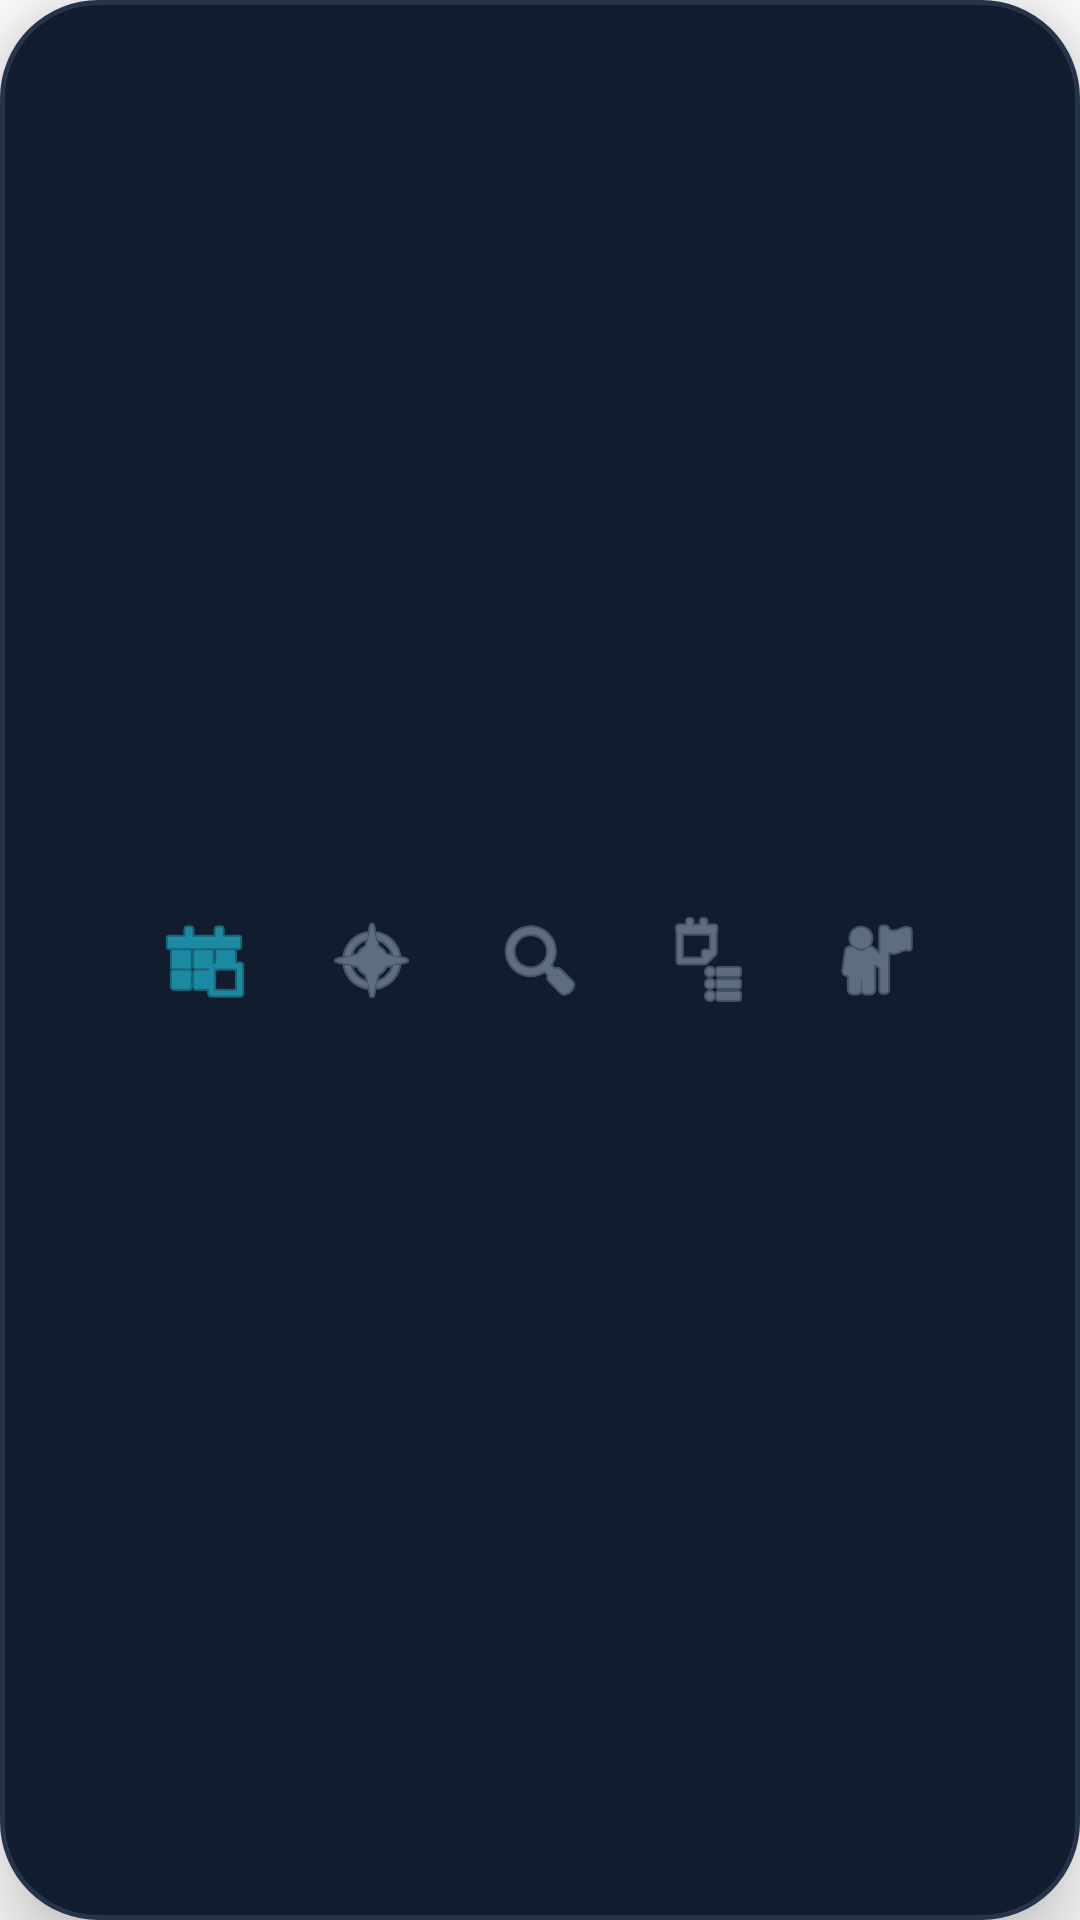

Locate icon controls on the screen. Image size 1080px x 1920px, boxes as (x1, y1, x2, y2).
Explore: (505, 925, 575, 996)
